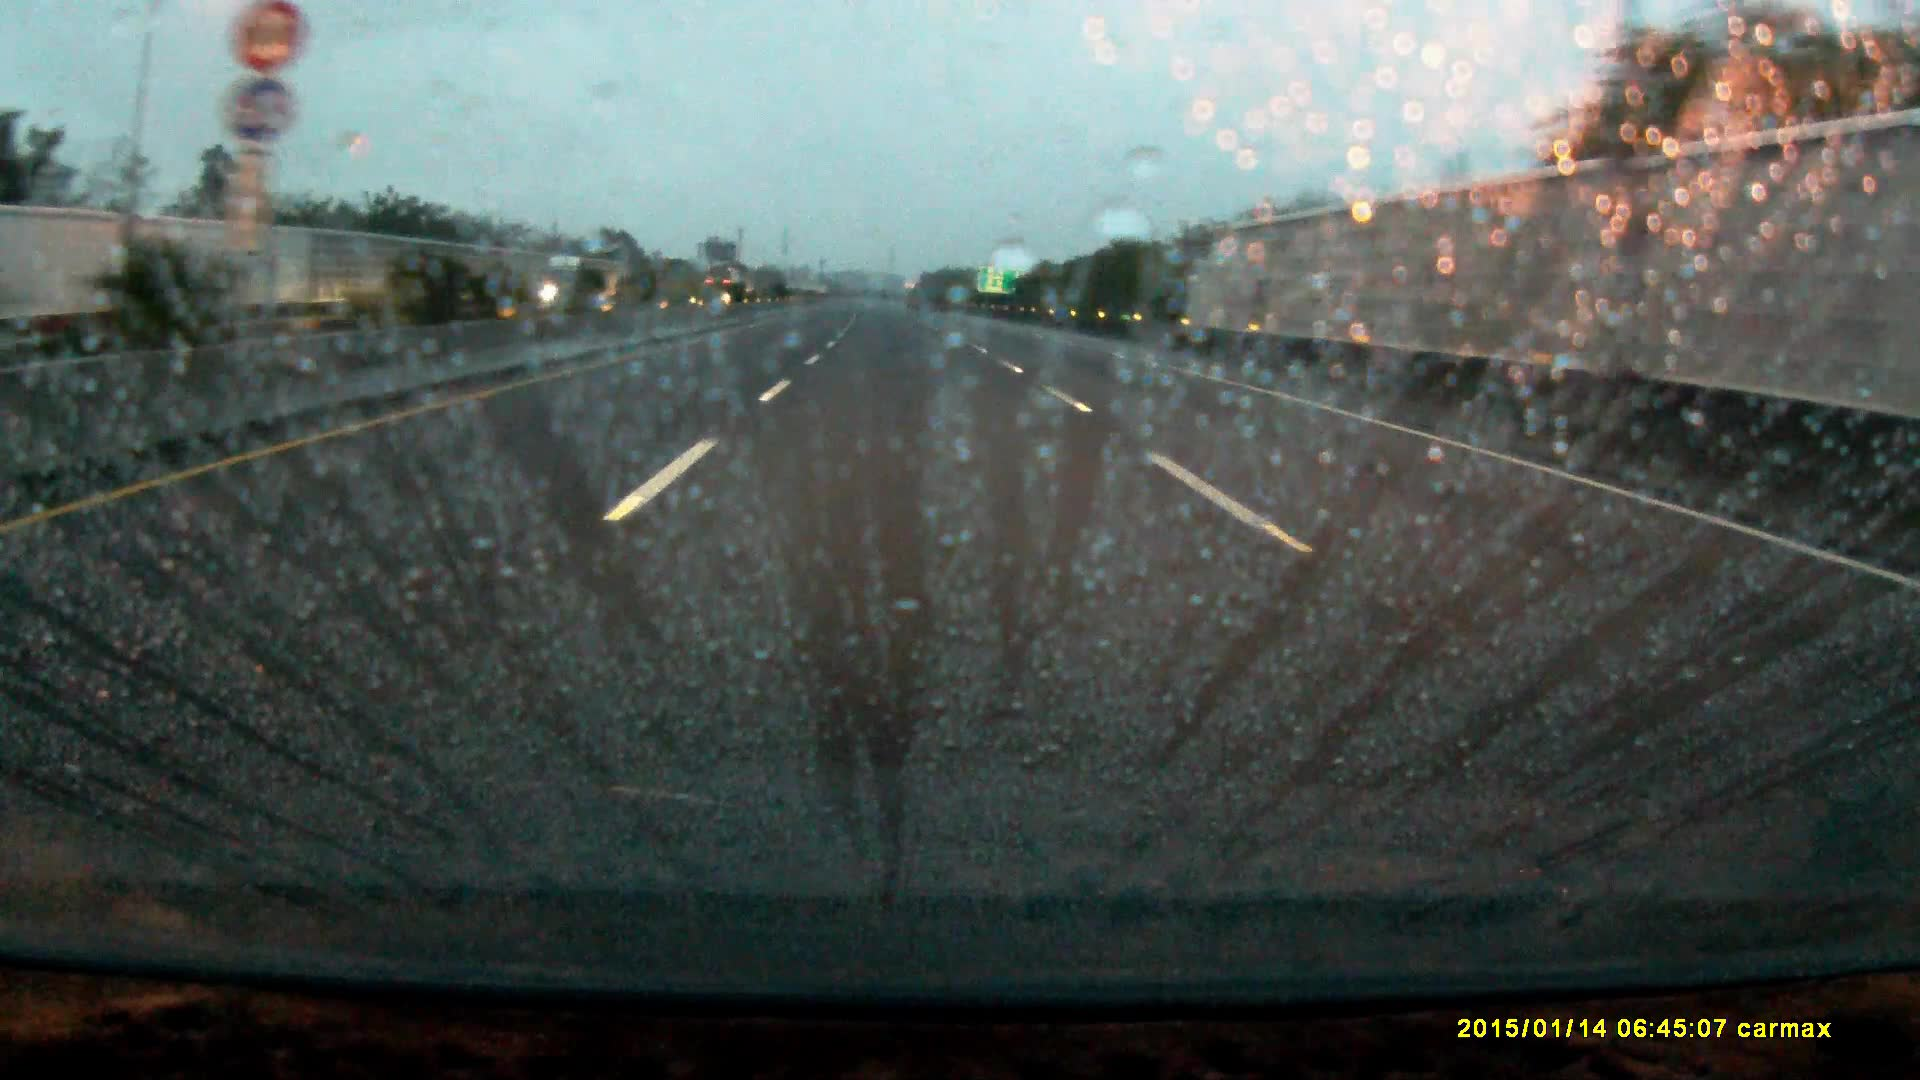vehicle: (541, 256, 611, 306), (703, 273, 740, 309)
